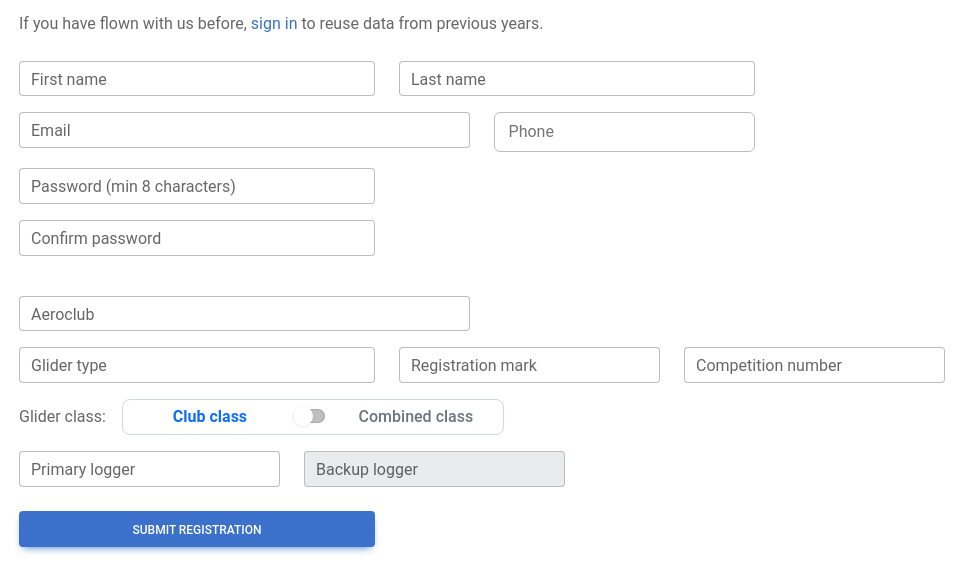
Scenario: shows invalid phone error for malformed UK number
The image size is (962, 571).
In the field labelled "Phone": [624, 132] box [507,119,742,145], type "+44 45678978"
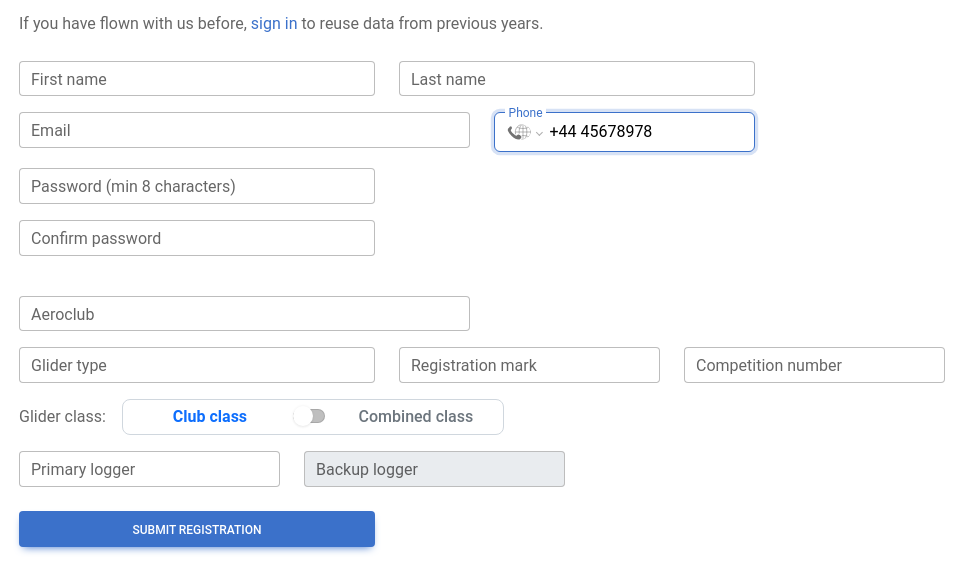
Submit the form
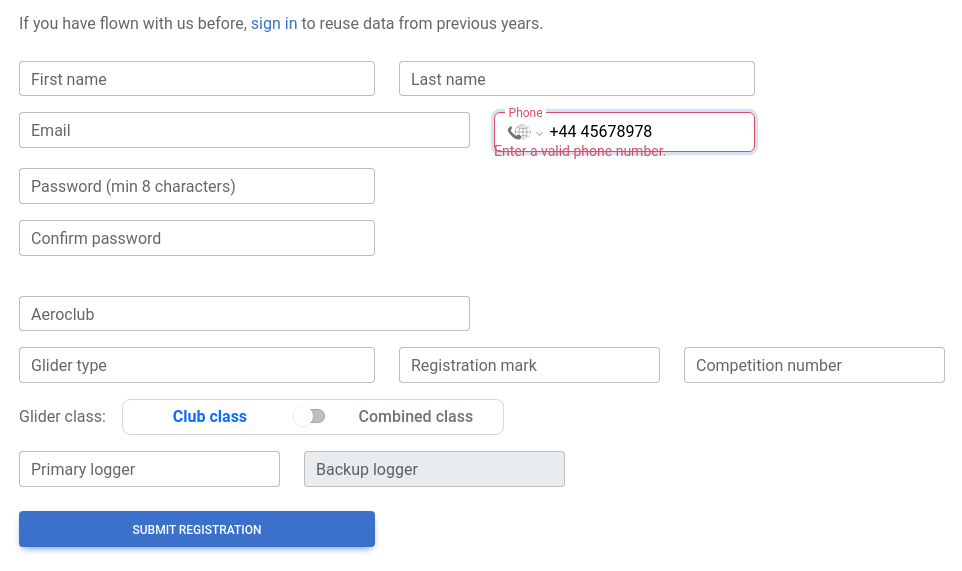
Check: the text "Enter a valid phone number." is shown, box [494,140,666,162]
